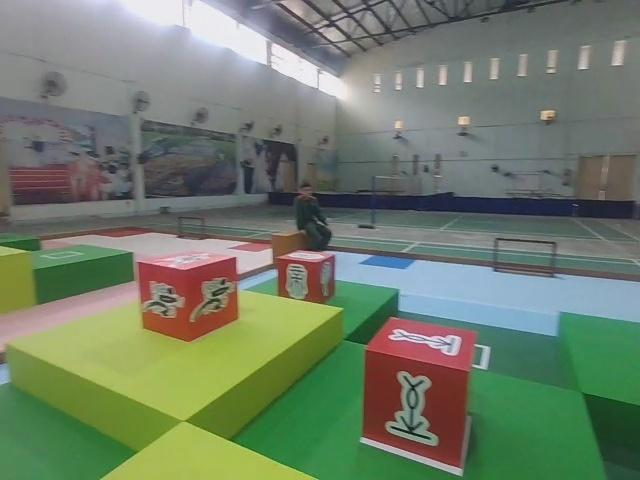R1: (136, 248, 241, 342)
R2 Fake: (275, 247, 339, 305)
R2 Real: (360, 313, 480, 471)
